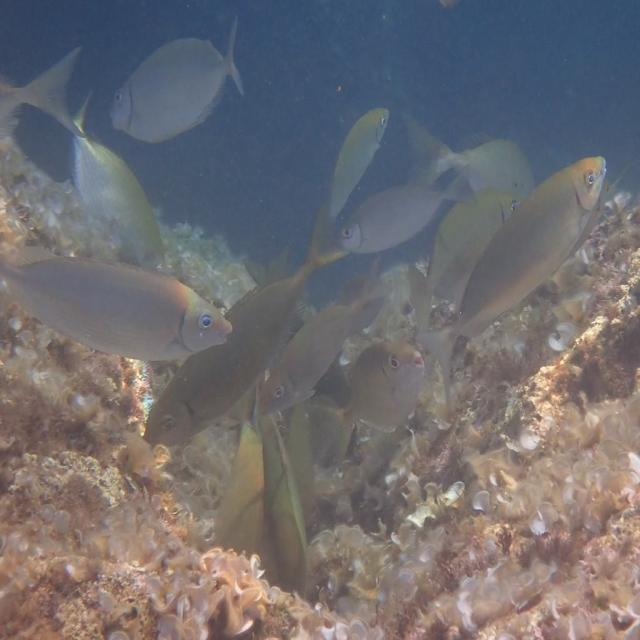Sokar Baligi: (0, 227, 234, 376), (105, 12, 259, 150)
